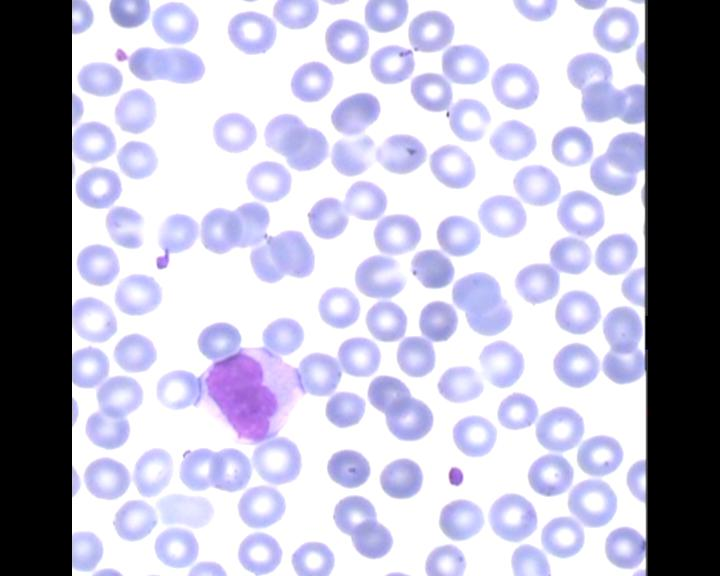mono: (192, 339, 302, 446)
